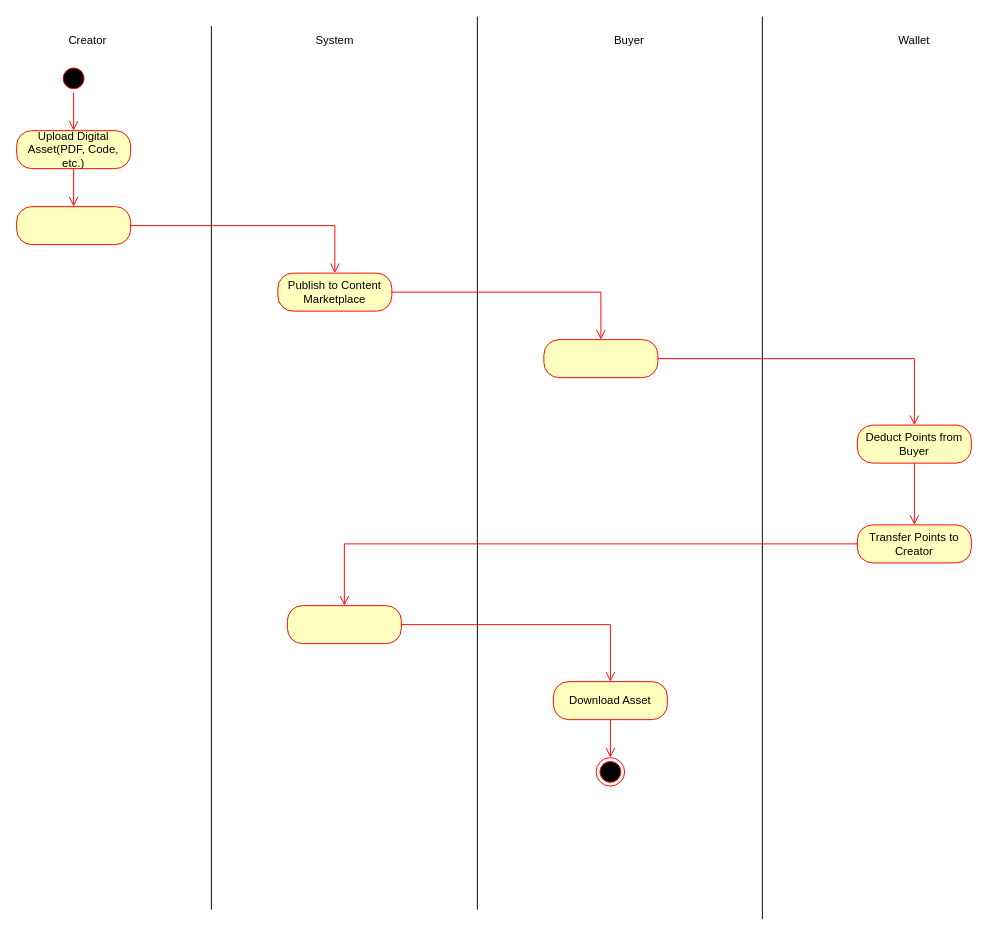
Some shapes in this 988 by 937 pixel diagram are drawn without their labels. Each missing label, with the box of its shape:
Generate Download Link: (286, 605, 401, 644)
Initiate Purchase: (543, 339, 658, 378)
Set ltem Price: (16, 206, 131, 245)
